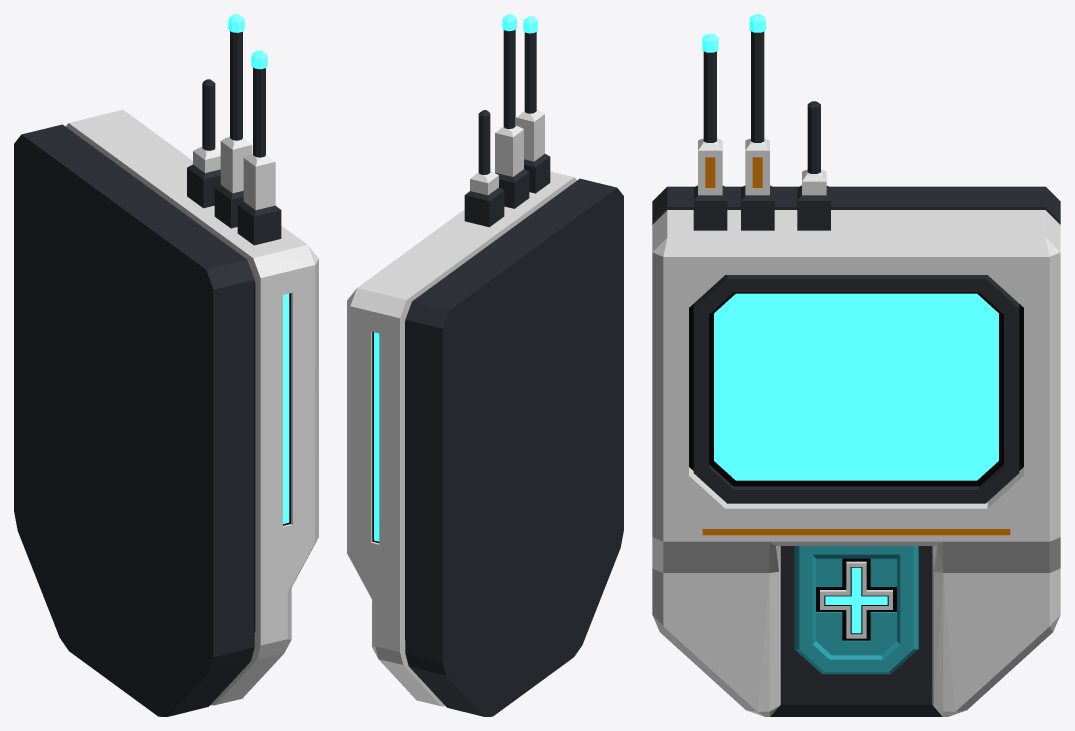
The model's file is SM_WallCommUnit.fbx.
3 renders of one model, left to right at view 1: azimuth 30°, elevation 25°; view 2: azimuth 150°, elevation 25°; view 3: azimuth 270°, elevation 25°, orthographic. The views are drawn at different scales.
Visible parts, largest first — view 1: SM_WallCommUnit; view 2: SM_WallCommUnit; view 3: SM_WallCommUnit.
Boxes of the visible parts, x1=… form: SM_WallCommUnit: x1=14, y1=14, x2=318, y2=716; SM_WallCommUnit: x1=347, y1=14, x2=623, y2=716; SM_WallCommUnit: x1=652, y1=14, x2=1060, y2=716.
Size of the model in its own units: 9.62 by 56.88 by 30.
